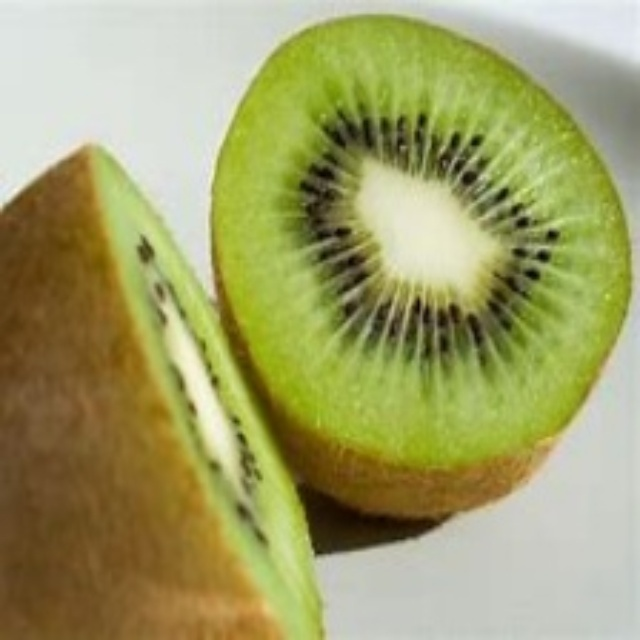kiwi: (206, 15, 635, 521), (5, 142, 336, 636)
